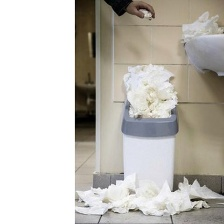tissue: (74, 169, 224, 220), (119, 59, 181, 123), (178, 7, 224, 44), (133, 5, 156, 21)
